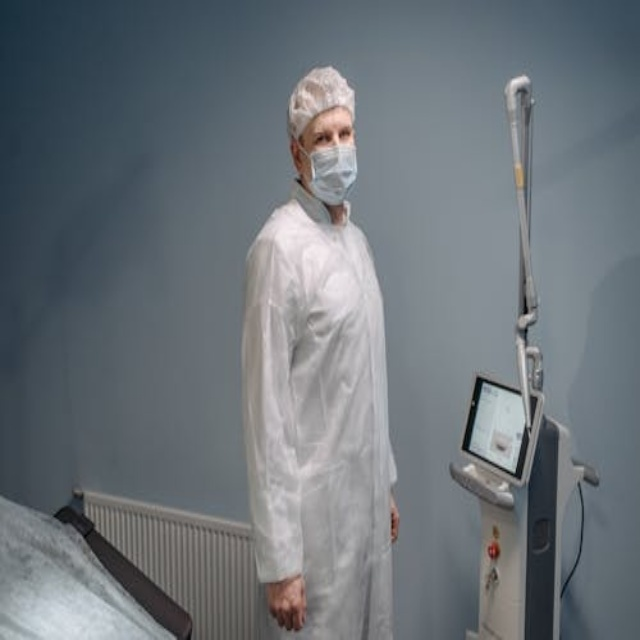Mascara: (299, 140, 358, 206)
Sin_gafas: (307, 115, 358, 148)
Sin_guantes: (267, 573, 308, 631), (385, 473, 403, 546)
